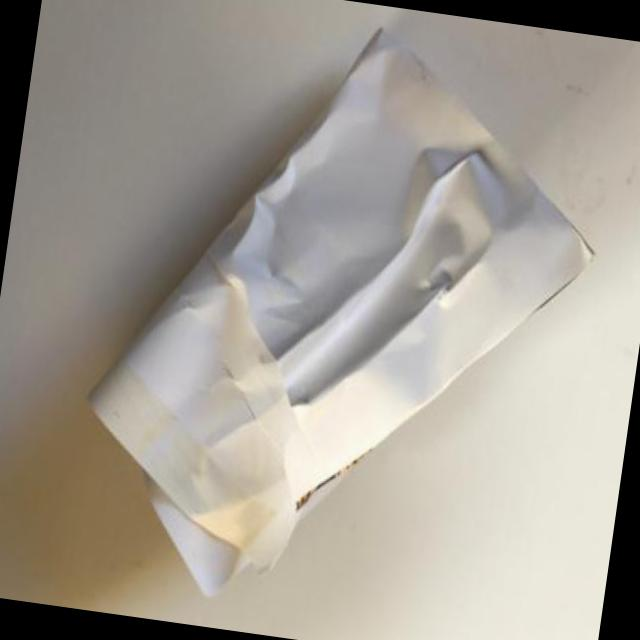giay: (88, 31, 597, 599)
